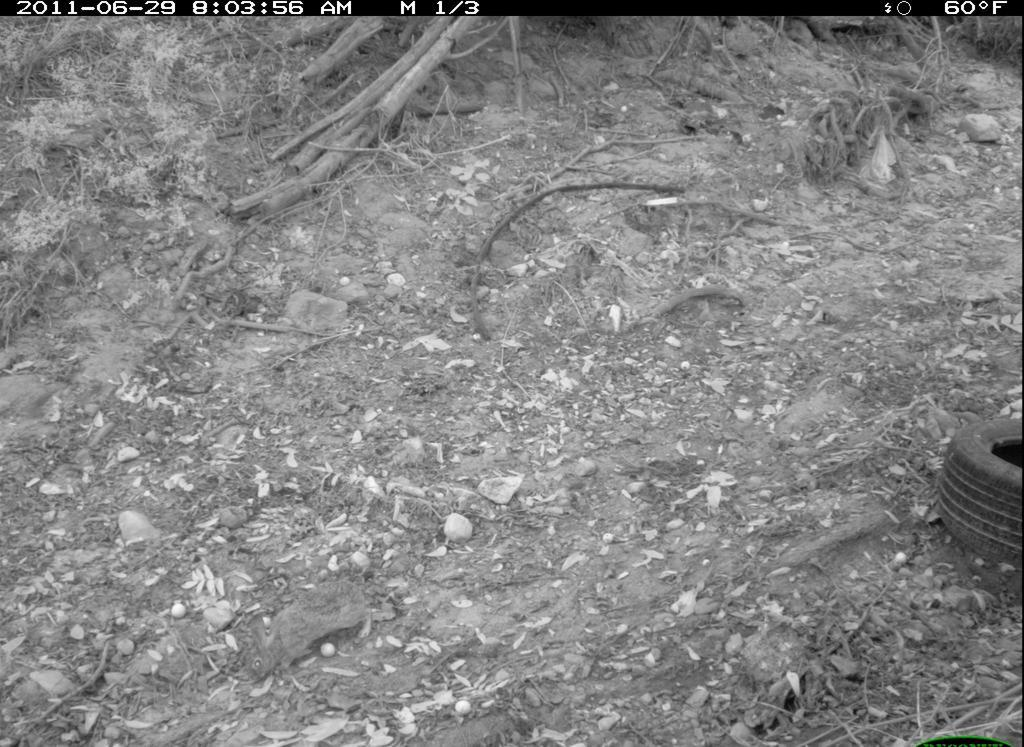rabbit: (225, 577, 387, 687)
